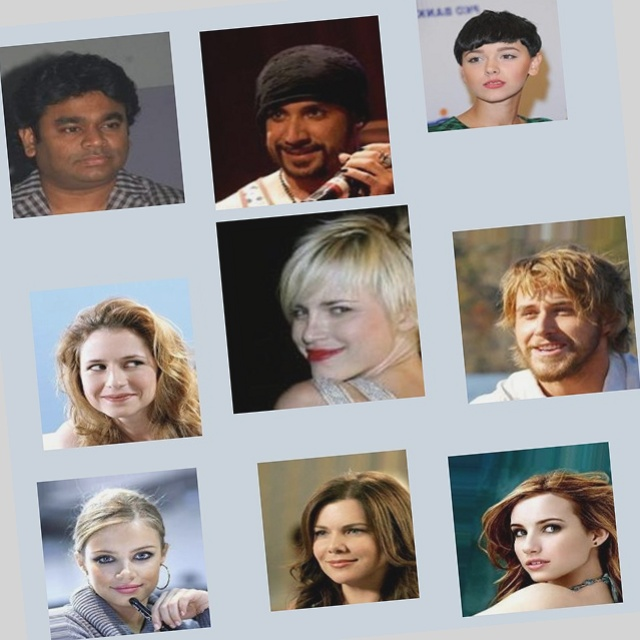celeb_10002: (0, 429, 172, 603)
celeb_2970: (406, 478, 582, 640)
celeb_3: (238, 15, 433, 210)
celeb_4428: (25, 240, 198, 413)
celeb_5695: (219, 450, 381, 612)
celeb_7: (37, 0, 225, 181)
celeb_7007: (461, 16, 613, 169)
celeb_797: (218, 206, 427, 415)
celeb_8335: (451, 258, 639, 446)
